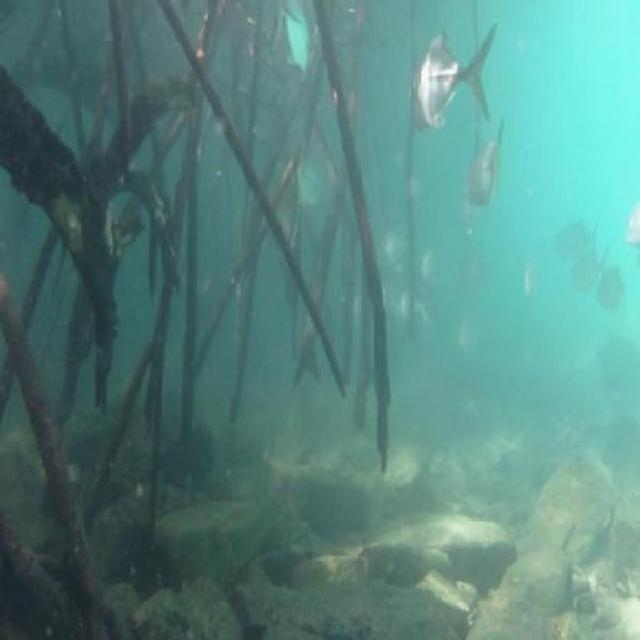Caranx_sexfasciatus_juvenile: (405, 23, 498, 146), (465, 116, 510, 221), (292, 141, 331, 236), (264, 181, 305, 270), (278, 0, 318, 91), (552, 205, 596, 273), (396, 283, 436, 357), (452, 242, 496, 298), (572, 246, 616, 300), (376, 218, 410, 284), (448, 305, 481, 370), (594, 254, 626, 321), (419, 240, 443, 305), (617, 208, 640, 275), (522, 250, 540, 319)
